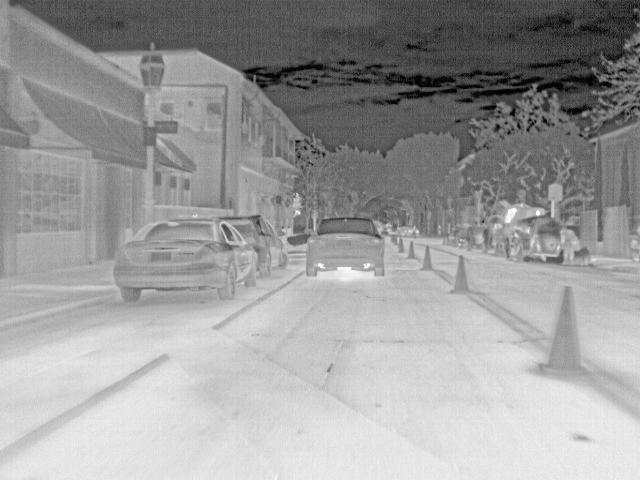car: (111, 217, 259, 301), (304, 214, 388, 278), (227, 214, 288, 273), (527, 213, 559, 262), (448, 221, 468, 247), (466, 222, 483, 248), (402, 226, 418, 237), (377, 220, 387, 234)
person: (560, 223, 582, 262), (508, 228, 525, 262), (493, 219, 506, 253)
